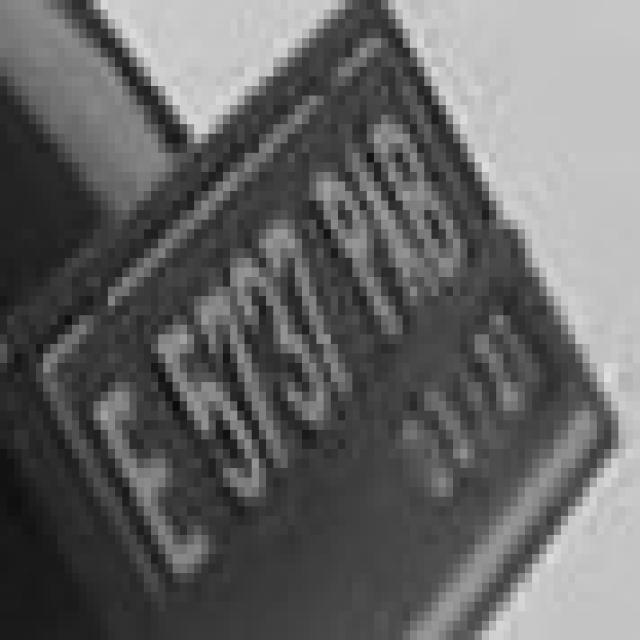license-plat: (31, 9, 612, 640)
